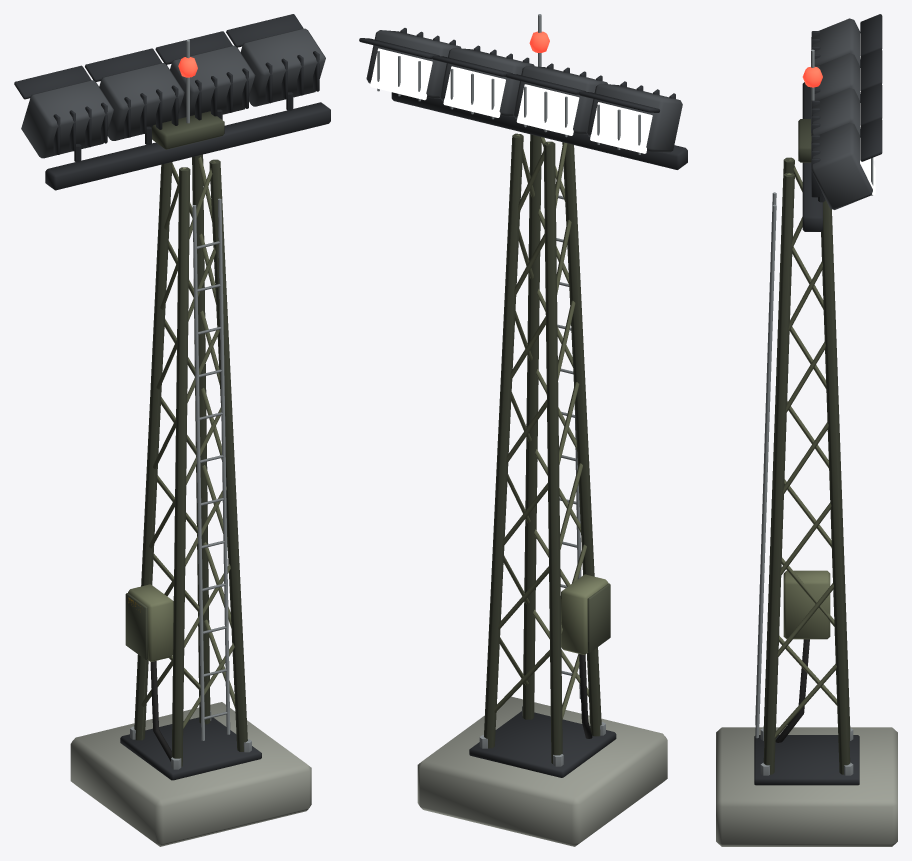
File: light_mast.glb
3 renders of one model, left to right at view 1: azimuth 30°, elevation 25°; view 2: azimuth 150°, elevation 25°; view 3: azimuth 270°, elevation 25°, orthographic. The views are drawn at different scales.
Parts seen in each view (by area): view 1: light_mast; view 2: light_mast; view 3: light_mast.
Part boxes in pixels (bbox=[...]): light_mast: bbox=[14, 14, 330, 846]; light_mast: bbox=[359, 14, 687, 846]; light_mast: bbox=[716, 14, 897, 846].
Bounding box in the file's own units: 1.11 × 2.86 × 0.62.
1 material, 1 textured.
